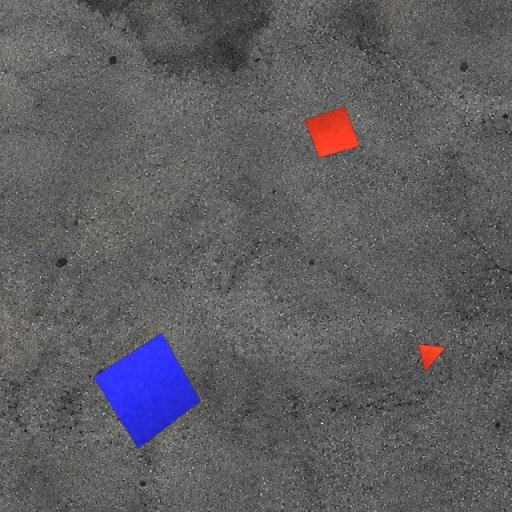BLUE_SQUARE: (92, 332, 202, 449)
RED_SQUARE: (304, 106, 361, 158)
